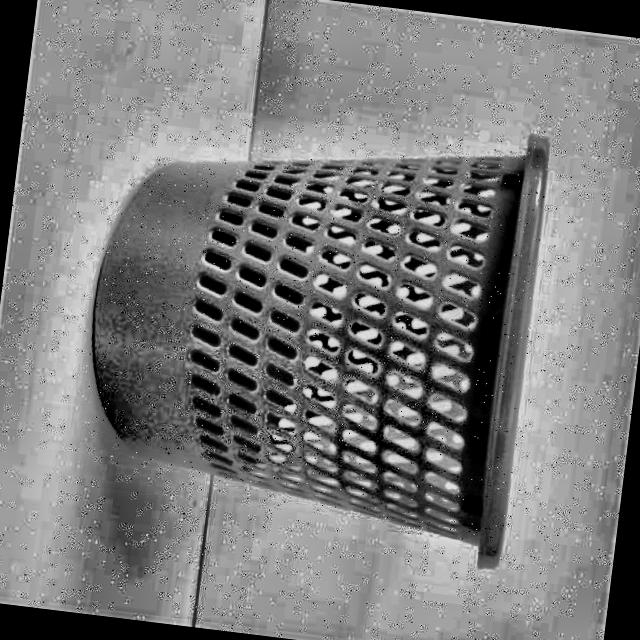Dustbin: (53, 49, 592, 592)
